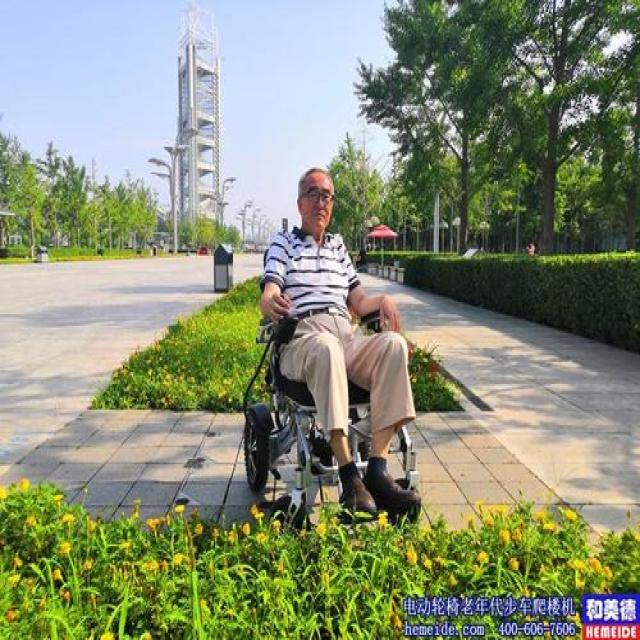wheelchairs: (228, 303, 422, 526)
